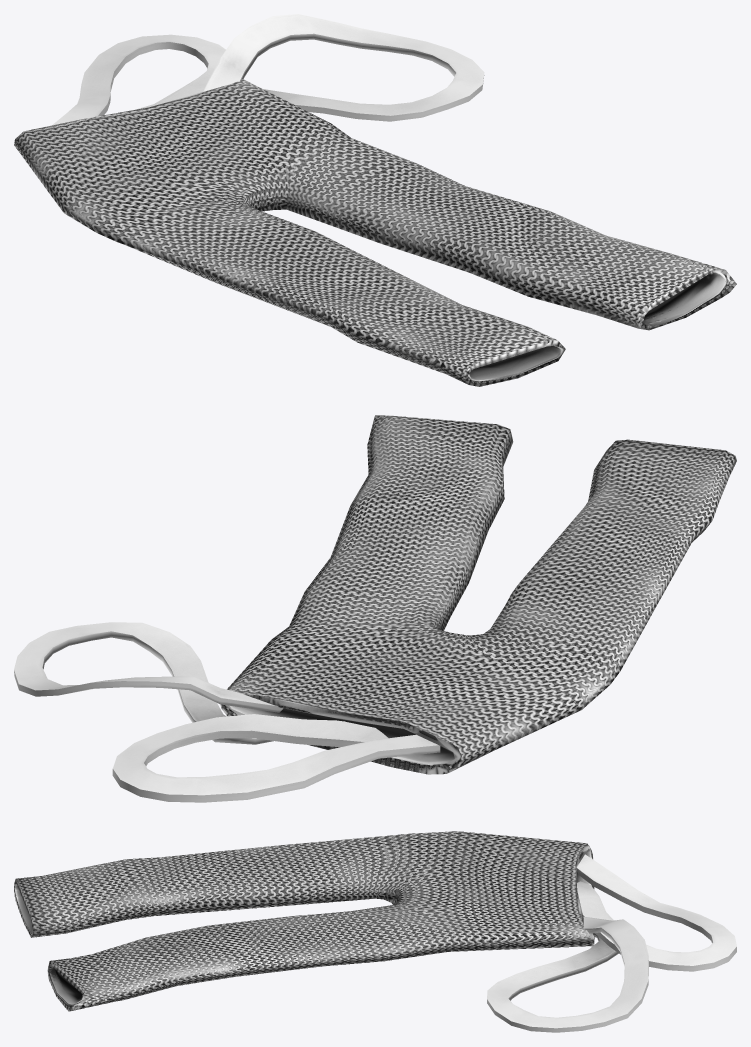
File: 036_mail_leggings_lp.fbx
3 renders of one model, top to bottom at view 1: azimuth 30°, elevation 25°; view 2: azimuth 150°, elevation 25°; view 3: azimuth 270°, elevation 25°, orthographic. The views are drawn at different scales.
Parts seen in each view (by area): view 1: 036_mail_leggings_lp; view 2: 036_mail_leggings_lp; view 3: 036_mail_leggings_lp.
Boxes of the visible parts, x1,y1,x2,y2 form: 036_mail_leggings_lp: (14, 14, 736, 386); 036_mail_leggings_lp: (14, 415, 736, 802); 036_mail_leggings_lp: (14, 831, 736, 1032).
Size of the model in its own units: 67.15 by 7.29 by 111.
